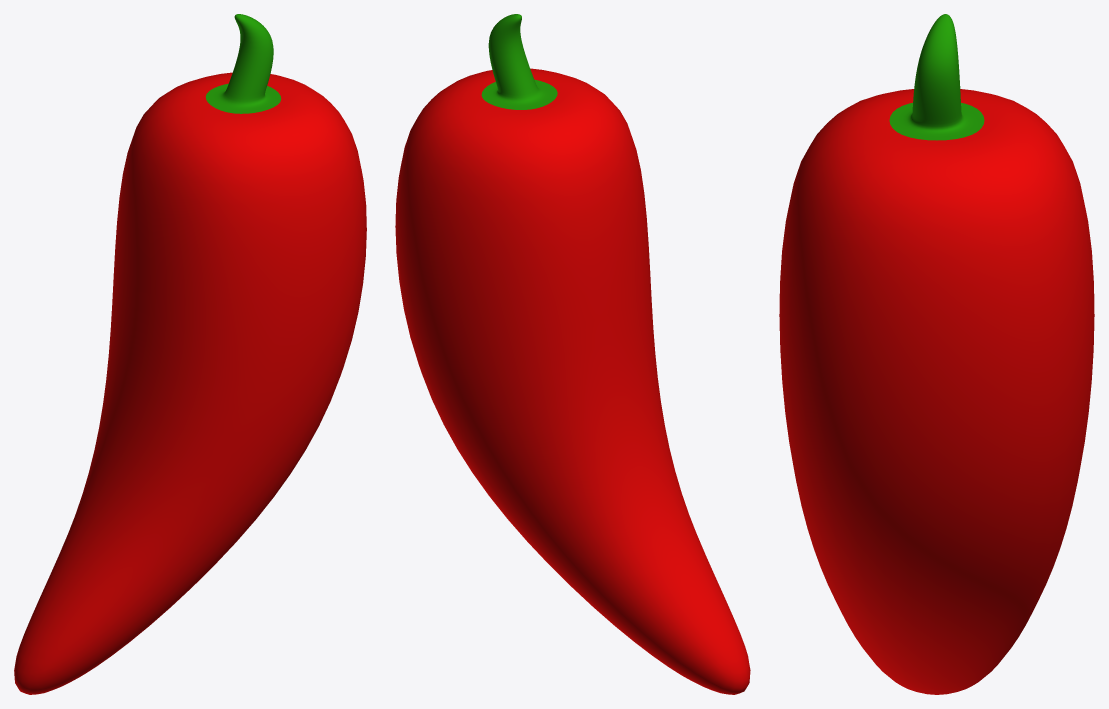
The model's file is Hotpepper.fbx.
3 renders of one model, left to right at view 1: azimuth 30°, elevation 25°; view 2: azimuth 150°, elevation 25°; view 3: azimuth 270°, elevation 25°, orthographic. The views are drawn at different scales.
Visible parts, largest first — view 1: Hotpepper; view 2: Hotpepper; view 3: Hotpepper.
Boxes of the visible parts, x1,y1,x2,y2 form: Hotpepper: (14,14,366,694); Hotpepper: (395,14,750,694); Hotpepper: (779,14,1094,694).
Bounding box in the file's own units: 279 × 504 × 179.
